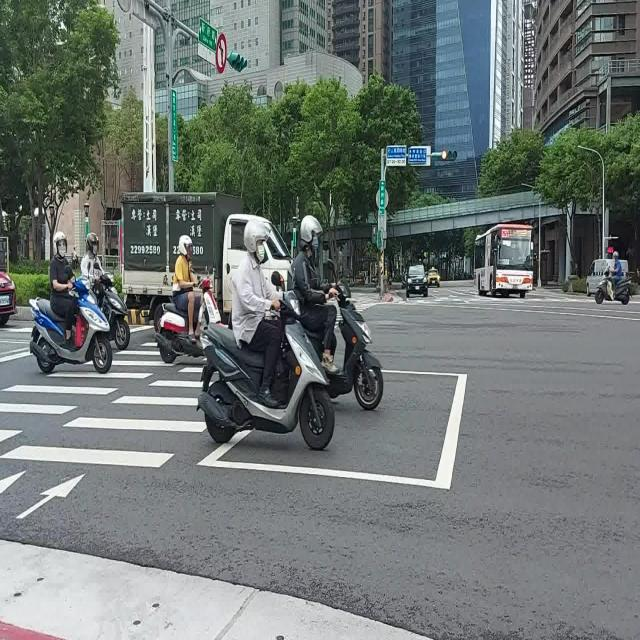bus: (474, 222, 534, 298)
car: (585, 258, 612, 296), (0, 269, 16, 326), (405, 264, 428, 298), (426, 267, 440, 287), (621, 260, 629, 278)
crosswalk: (0, 365, 207, 468), (0, 336, 165, 444), (354, 303, 373, 314)
motocycle: (197, 285, 339, 457), (27, 273, 116, 377), (332, 277, 387, 419), (149, 266, 221, 373), (91, 259, 133, 350), (99, 270, 133, 348), (595, 267, 614, 304), (612, 276, 630, 304)
trunk: (122, 193, 250, 327), (262, 224, 290, 284)
